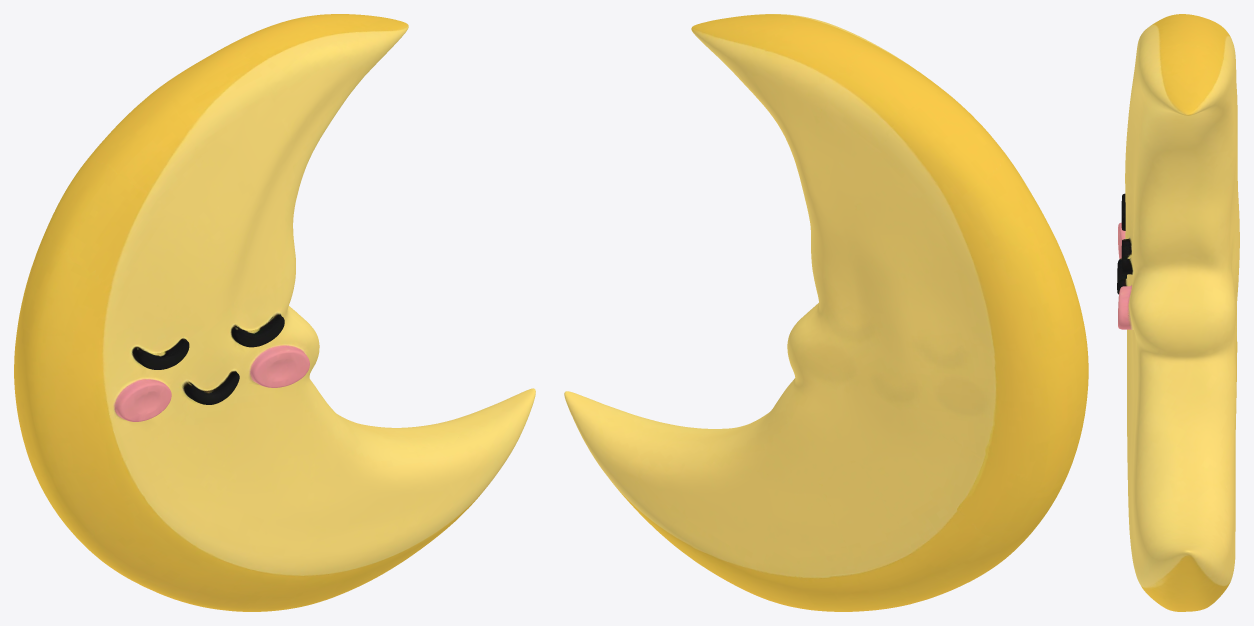
Rendered from Luna.glb.
3 renders of one model, left to right at view 1: azimuth 30°, elevation 25°; view 2: azimuth 150°, elevation 25°; view 3: azimuth 270°, elevation 25°, orthographic. The views are drawn at different scales.
Size of the model in its own units: 1.78 by 1.9 by 0.3842.
1 material, 1 textured.
